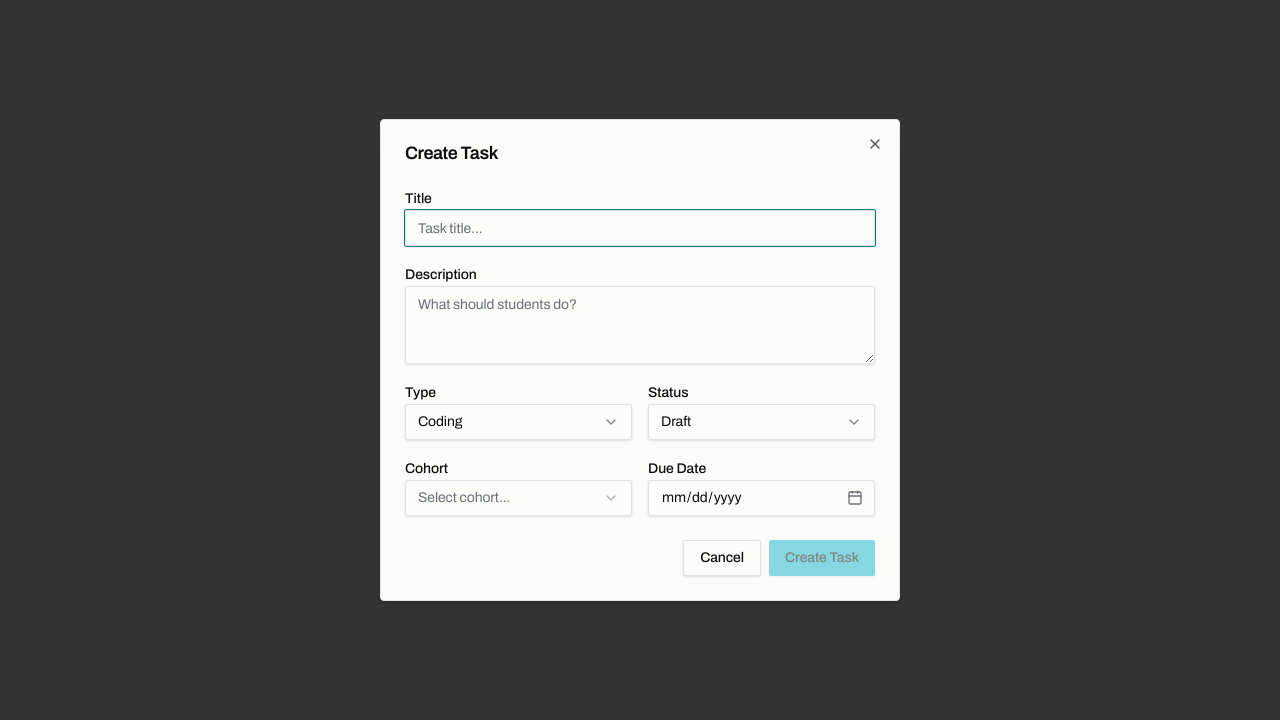
task FormDialog › asks for a cohort before creating a task
Step 1. Type "New task" into the field with placeholder "Task title..." → x=640, y=228, box [405,210,875,246]
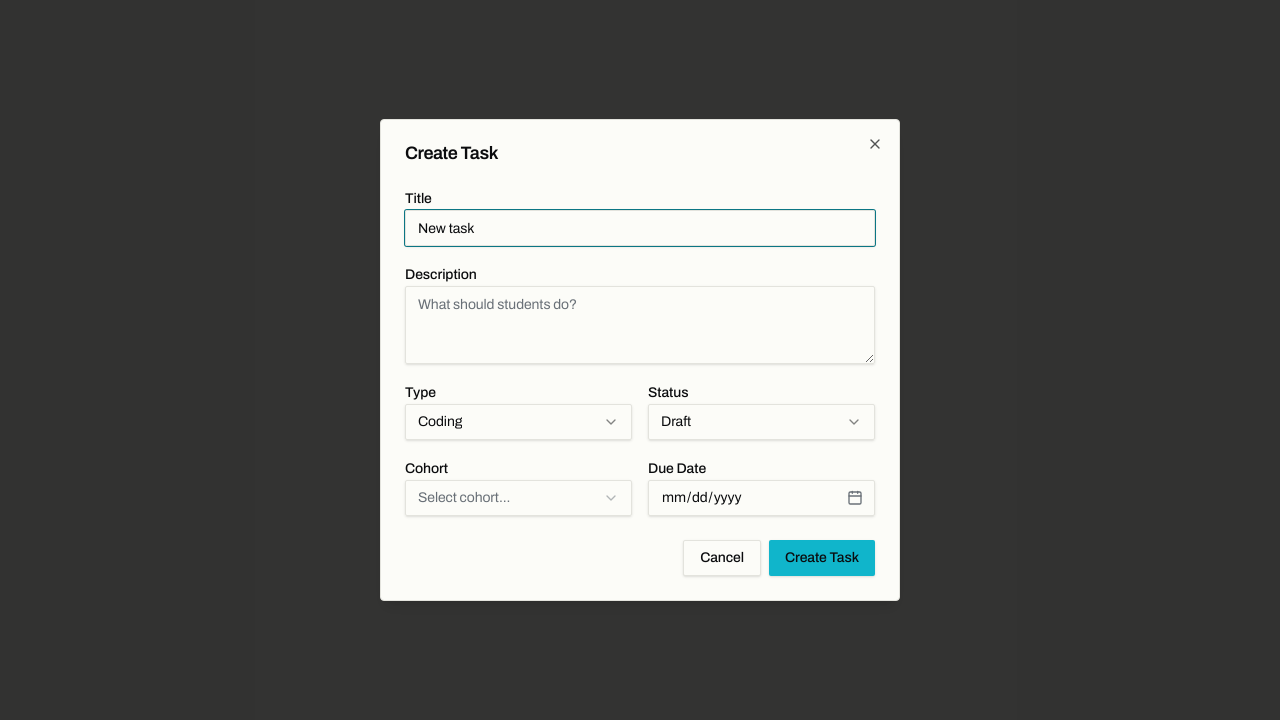
Step 2. Click the button "Create Task" → x=822, y=558, box [769,540,875,576]
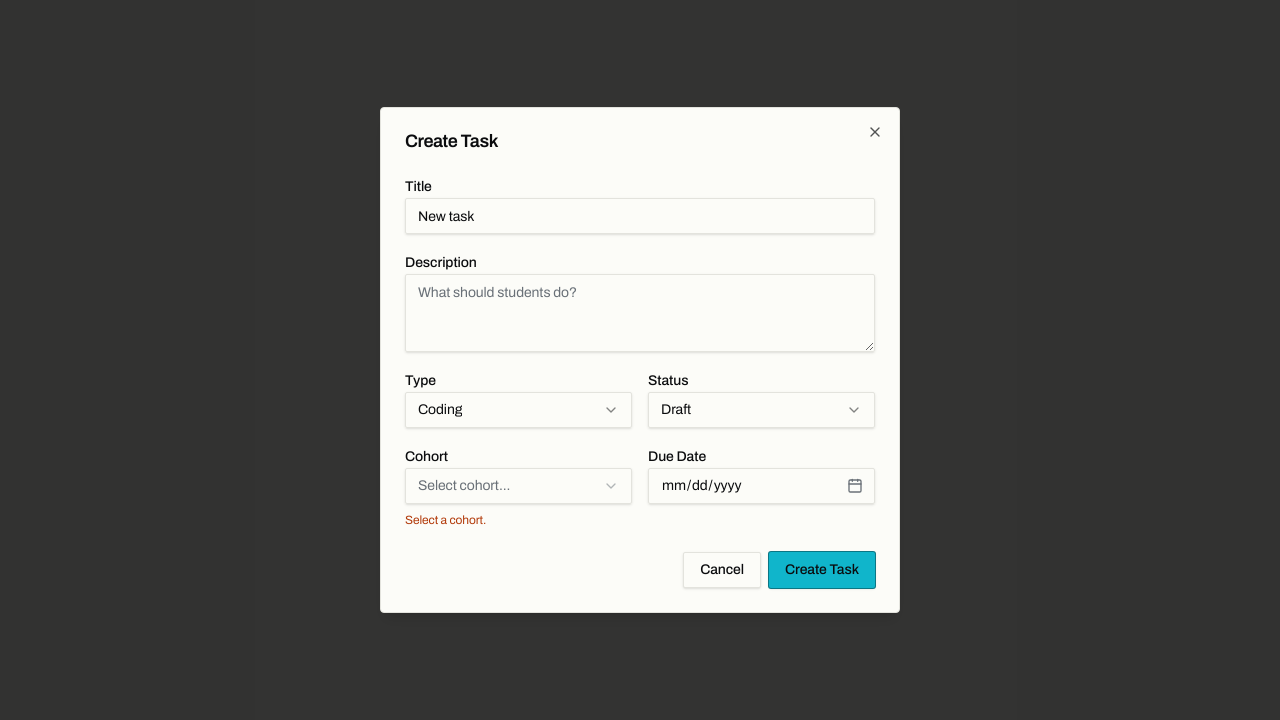
expect the text "Select a cohort." is shown: met, box [405,513,486,527]
